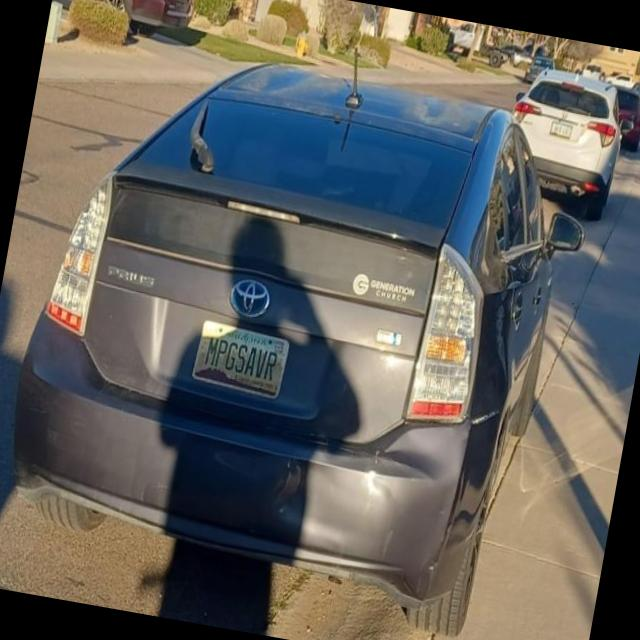LicensePlate: (190, 317, 290, 400)
